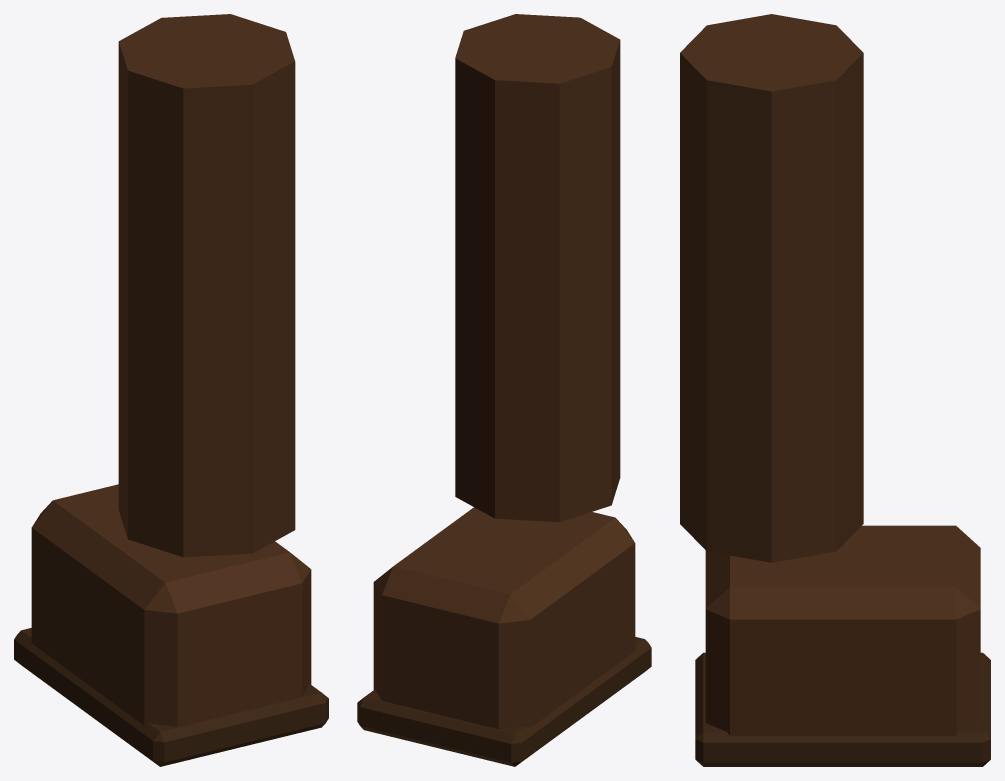
The model's file is LegLeft.glb.
3 renders of one model, left to right at view 1: azimuth 30°, elevation 25°; view 2: azimuth 150°, elevation 25°; view 3: azimuth 270°, elevation 25°, orthographic. The views are drawn at different scales.
Parts seen in each view (by area): view 1: Sculpture; view 2: Sculpture; view 3: Sculpture.
Part boxes in pixels (box(x1,y1,x2,y2)): Sculpture: box(14, 14, 328, 766); Sculpture: box(357, 14, 651, 766); Sculpture: box(680, 14, 990, 766).
Bounding box in the file's own units: 0.2 × 0.73 × 0.305.
